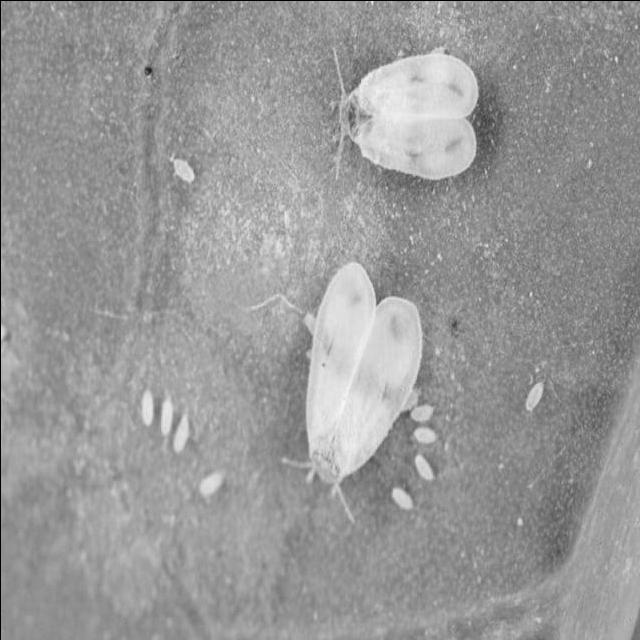Whitefly: (270, 242, 430, 528), (329, 36, 481, 204)
